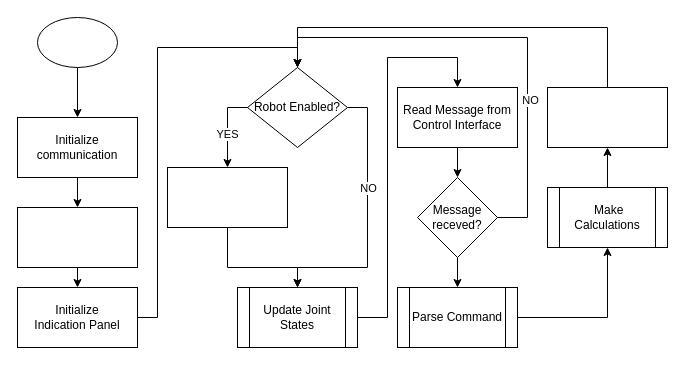
Image size: 685x365. Some labels were removed from this diagram. Each missing label, with the centre of its shape:
"Begin" belongs at point (77, 42).
"Initialize Joint speed" belongs at point (77, 237).
"Send Command to Motors" belongs at point (227, 197).
"Update Indication" belongs at point (607, 117).
